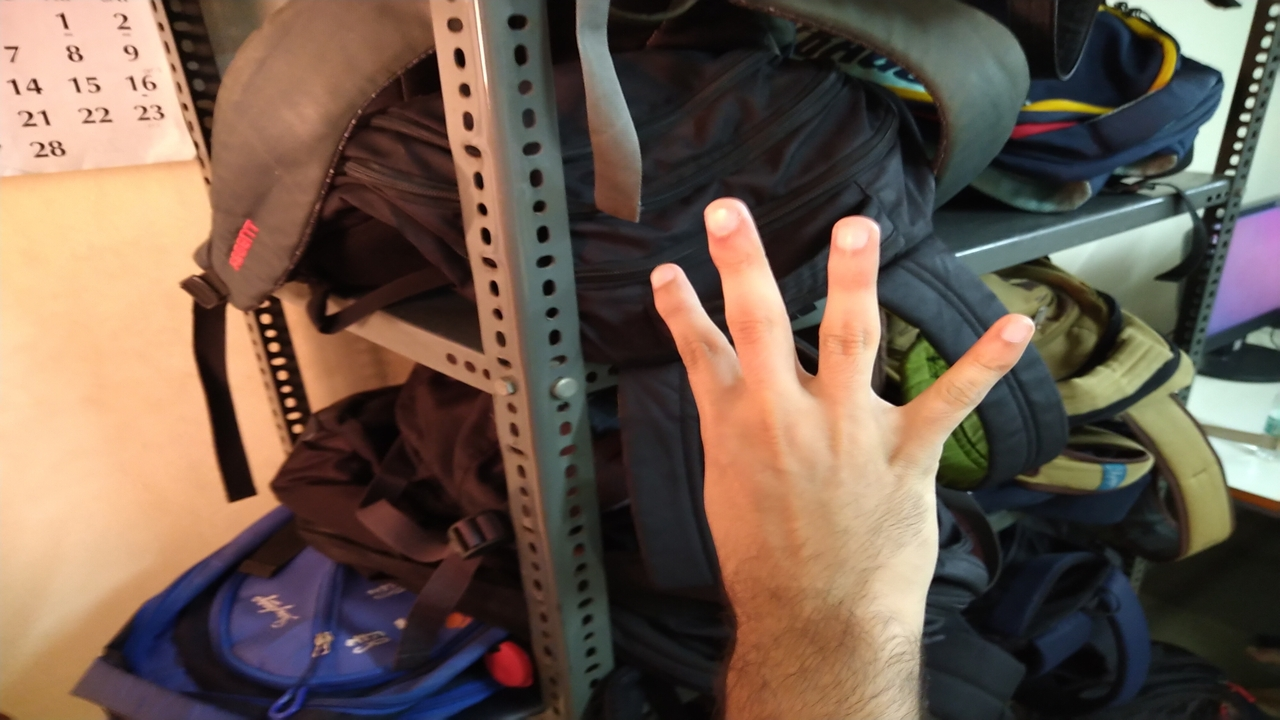fingertip: (694, 186, 768, 254), (824, 208, 888, 268), (979, 303, 1037, 354), (646, 254, 700, 308)
